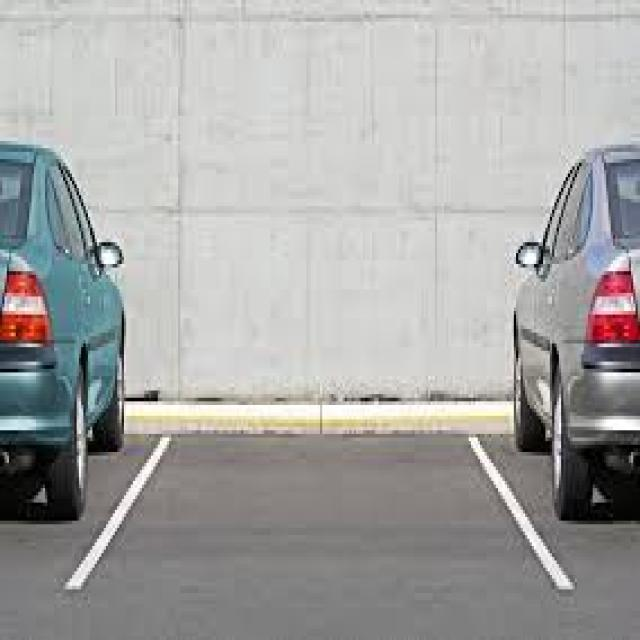libre: (58, 386, 578, 594)
ocupado: (455, 106, 638, 613), (0, 101, 159, 601)
